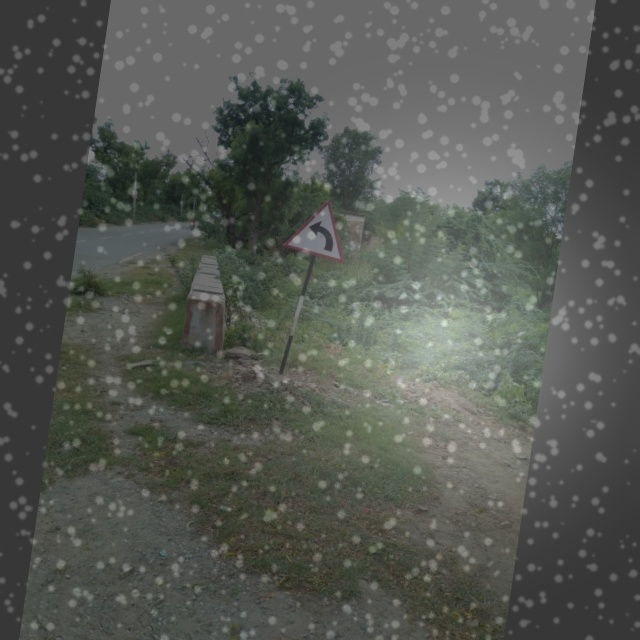Left_Hand_Curve: (279, 194, 357, 270)
